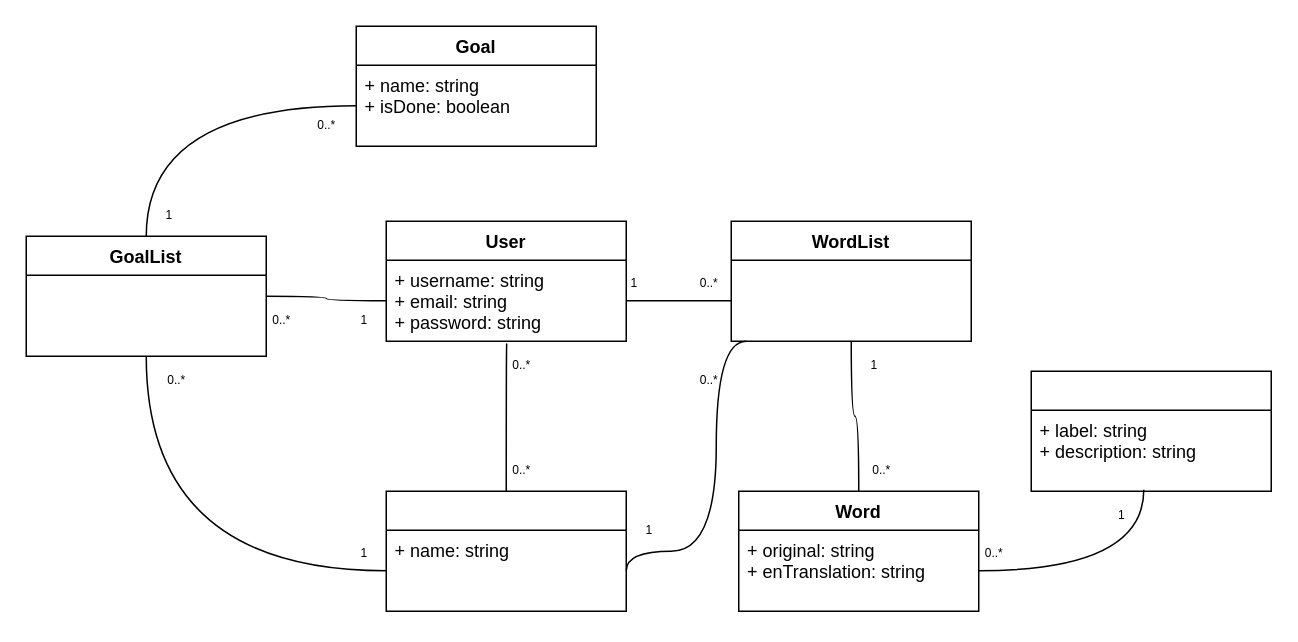
Some shapes in this 1298 by 642 pixel diagram are drawn without their labels. The box of each missing label's shape, as (x1, y1, x2, y2) in pixels:
Language: (385, 490, 626, 611)
WordLevel: (1030, 370, 1271, 491)
